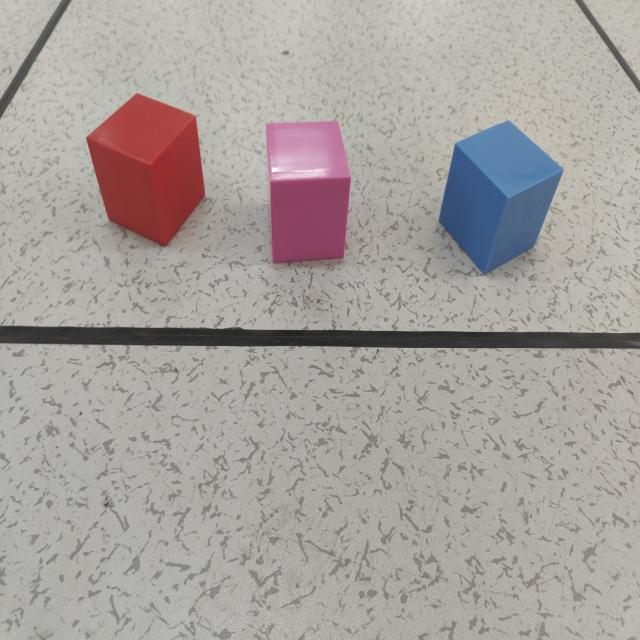blue: (438, 123, 563, 276)
pink: (264, 120, 351, 266)
red: (86, 95, 206, 248)
